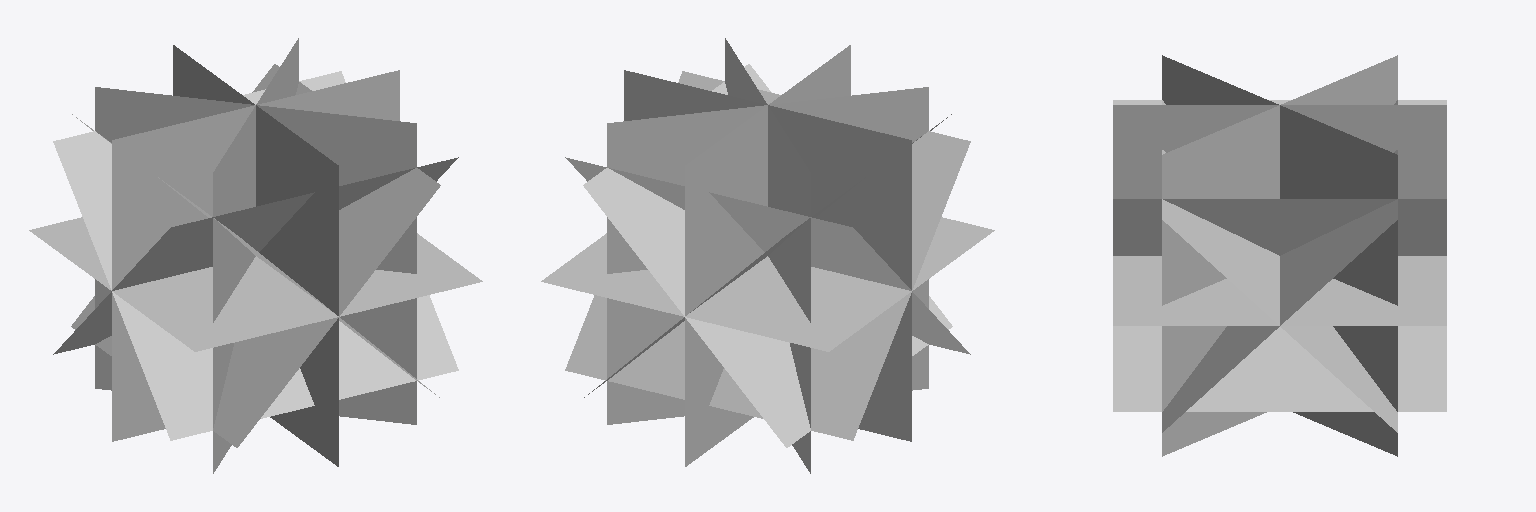
Rendered from cf_sm_smoke3.obj.
3 views of the same model, side by side, from view 1: azimuth 30°, elevation 25°; view 2: azimuth 150°, elevation 25°; view 3: azimuth 270°, elevation 25° (orthographic).
Visible parts, largest first — view 1: Plane.011_Plane.020; view 2: Plane.011_Plane.020; view 3: Plane.011_Plane.020.
Part boxes in pixels (bbox=[...]): Plane.011_Plane.020: bbox=[29, 38, 482, 473]; Plane.011_Plane.020: bbox=[541, 38, 994, 473]; Plane.011_Plane.020: bbox=[1113, 55, 1446, 456].
Size of the model in its own units: 5.87 by 5.87 by 5.87.